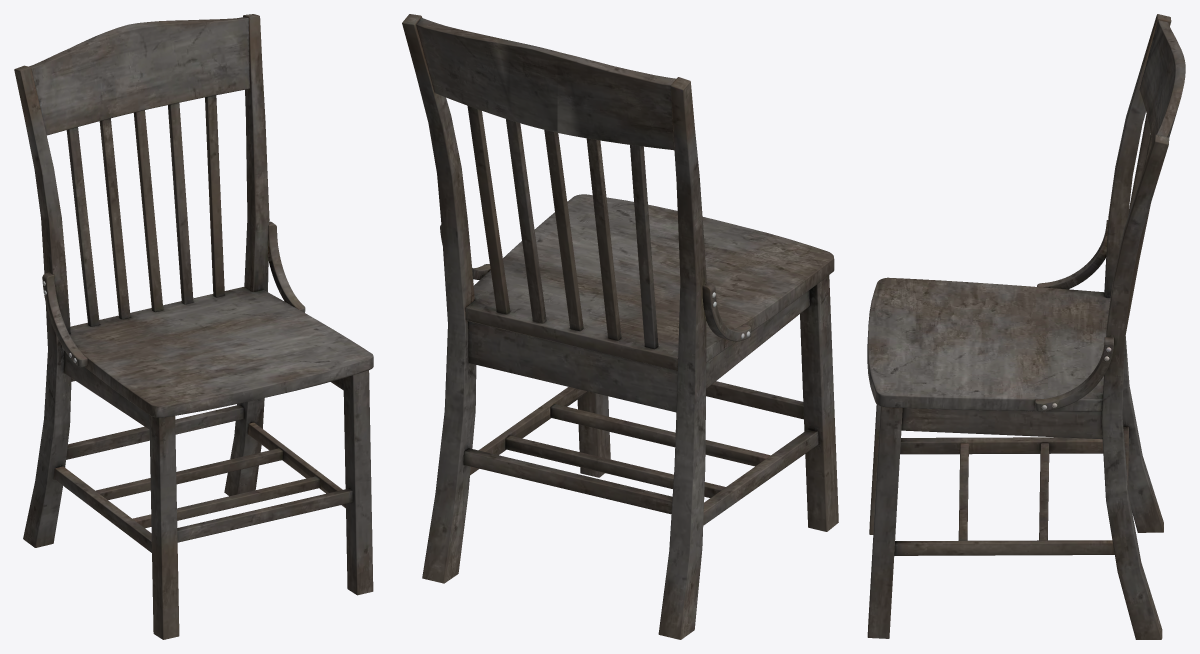
3 views of the same model, side by side, from view 1: azimuth 30°, elevation 25°; view 2: azimuth 150°, elevation 25°; view 3: azimuth 270°, elevation 25° (orthographic). The views are drawn at different scales.
Parts seen in each view (by area): view 1: Chair 03-Freepoly.org; view 2: Chair 03-Freepoly.org; view 3: Chair 03-Freepoly.org.
Part boxes in pixels (<box>): Chair 03-Freepoly.org: <box>14,14,373,639</box>; Chair 03-Freepoly.org: <box>402,14,838,639</box>; Chair 03-Freepoly.org: <box>867,14,1185,639</box>.
Size of the model in its own units: 0.5123 by 0.9903 by 0.5513.
1 material, 1 textured.
